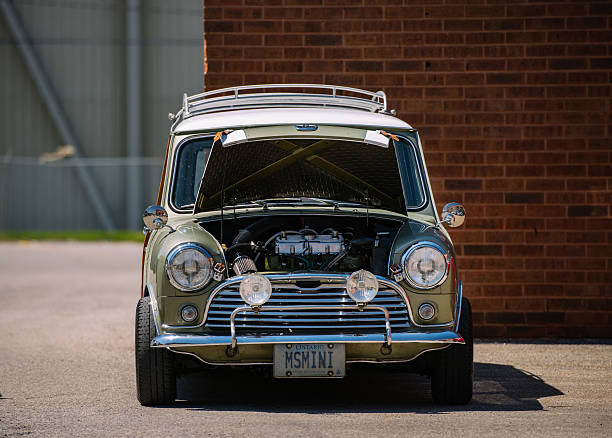licence: (271, 338, 345, 379)
